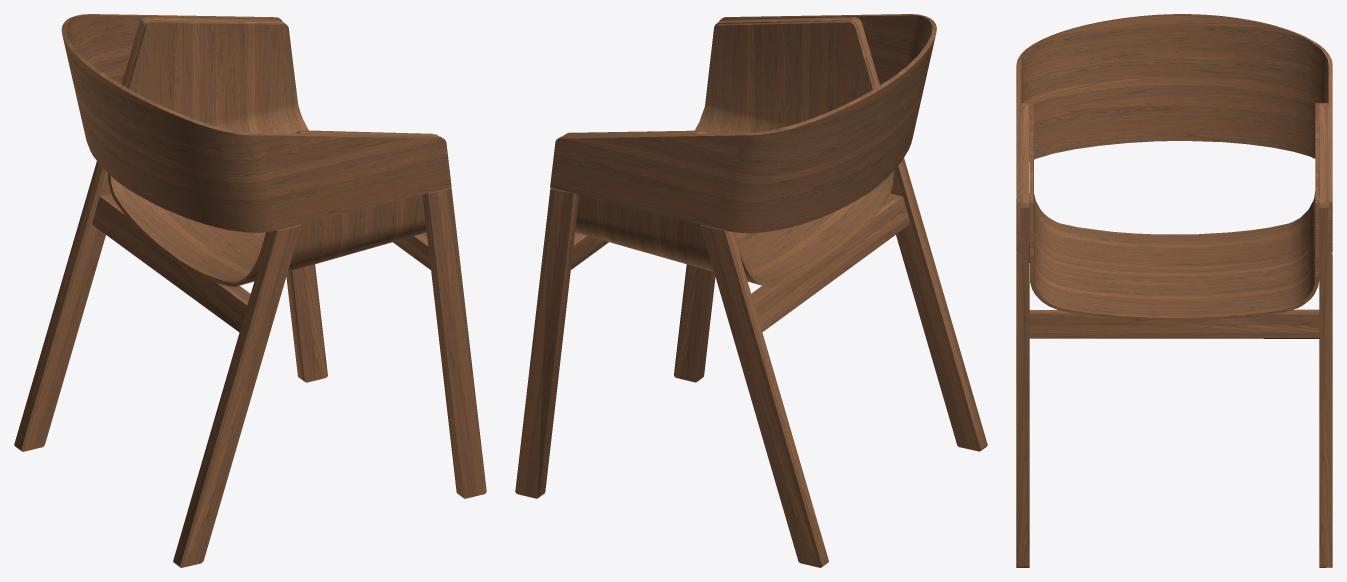
File: Chair 3.FBX
3 views of the same model, side by side, from view 1: azimuth 30°, elevation 25°; view 2: azimuth 150°, elevation 25°; view 3: azimuth 270°, elevation 25° (orthographic). The views are drawn at different scales.
Visible parts, largest first — view 1: chair 3; view 2: chair 3; view 3: chair 3.
Boxes of the visible parts, x1,y1,x2,y2 form: chair 3: (14, 14, 486, 567); chair 3: (515, 14, 987, 567); chair 3: (1016, 14, 1332, 567).
Size of the model in its own units: 62.23 by 83.98 by 58.2.
1 material, 1 textured.
